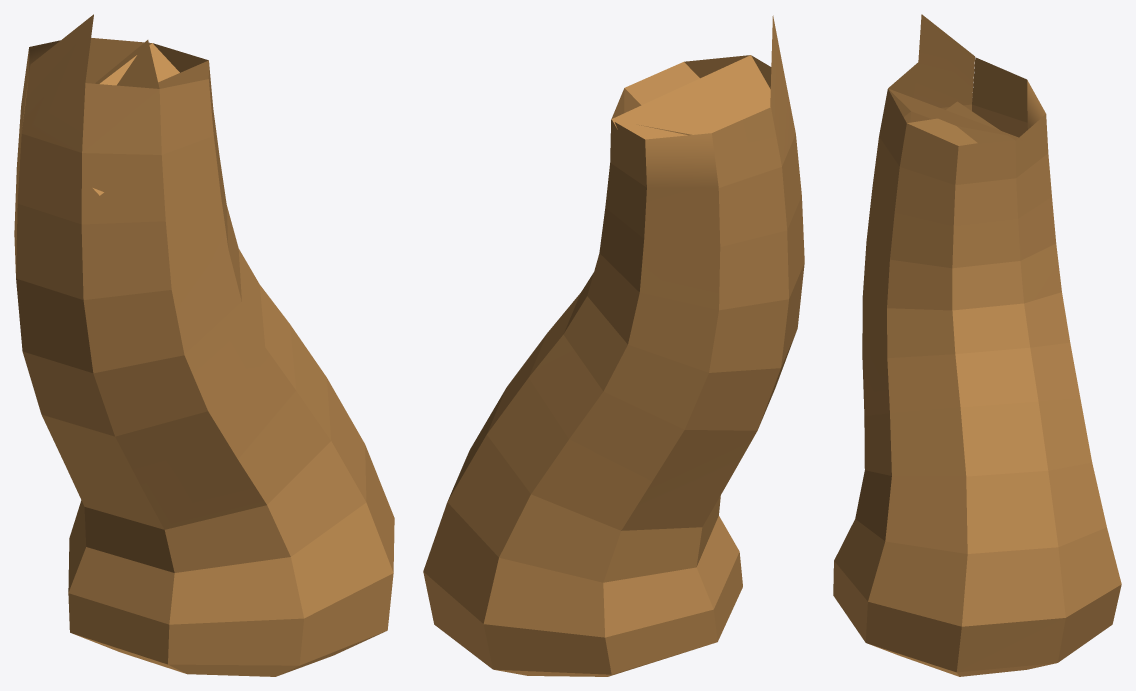
Rendered from besar3.fbx.
3 views of the same model, side by side, from view 1: azimuth 30°, elevation 25°; view 2: azimuth 150°, elevation 25°; view 3: azimuth 270°, elevation 25° (orthographic). The views are drawn at different scales.
Visible parts, largest first — view 1: Object_11; view 2: Object_11; view 3: Object_11.
Boxes of the visible parts, x1,y1,x2,y2 form: Object_11: [14, 14, 394, 676]; Object_11: [423, 15, 804, 676]; Object_11: [833, 14, 1121, 676].
Bounding box in the file's own units: 52.57 × 94.78 × 43.67.
